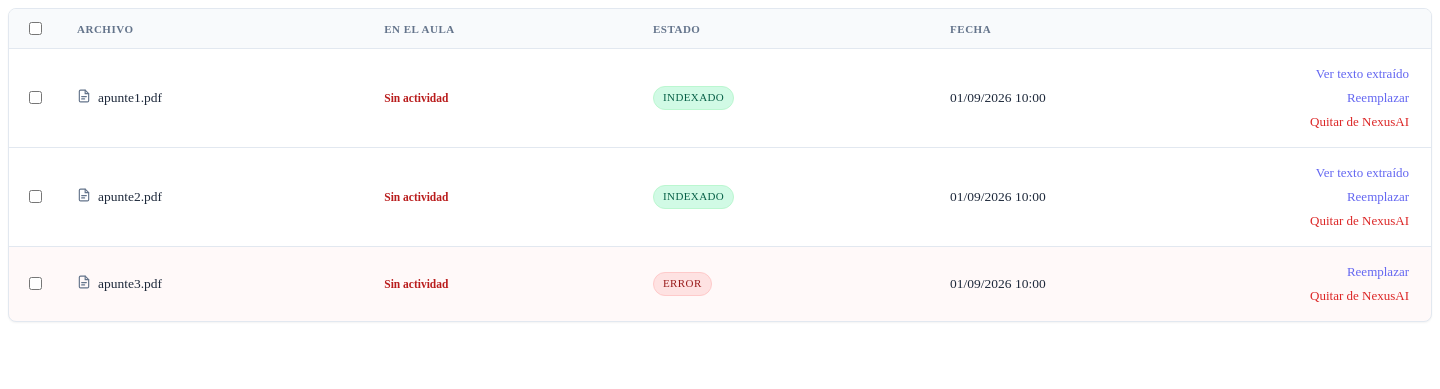
Scenario: DocumentsTable — selección múltiple › shows the bulk toolbar only when at least one row is selected
Expected: the text "seleccionado" is not shown
Click the checkbox named "Seleccionar apunte1.pdf" at (36, 98), box [29, 91, 42, 104]
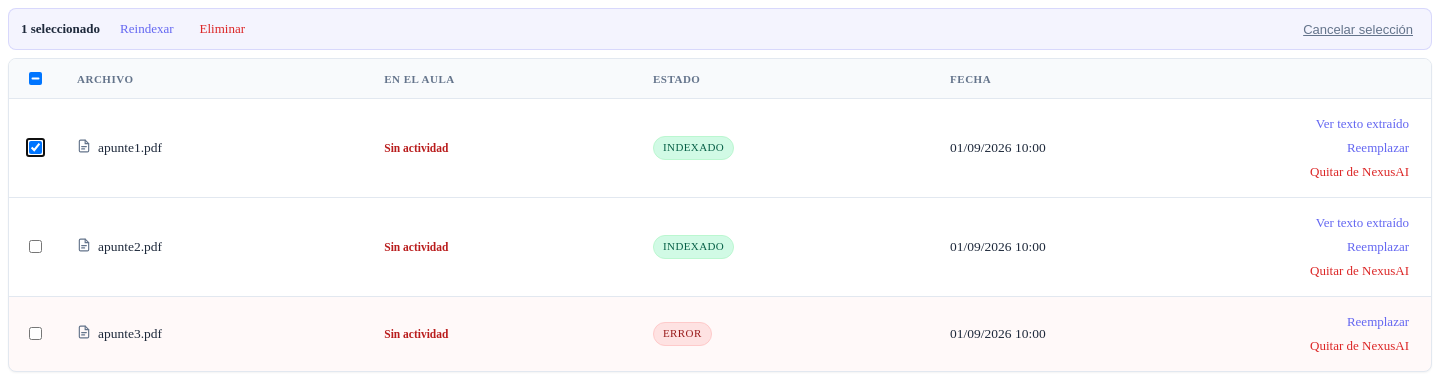
Expected: the text "1 seleccionado" is shown, [21, 21, 100, 37]
